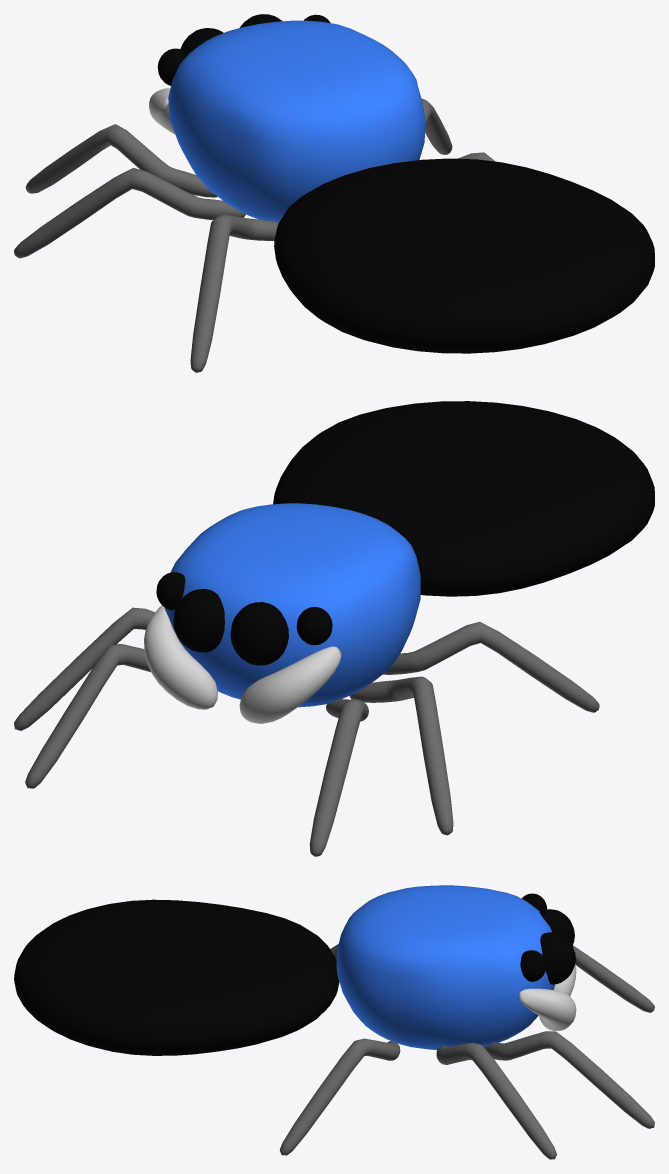
The model's file is Spider19.glb.
3 views of the same model, one above another, from view 1: azimuth 30°, elevation 25°; view 2: azimuth 150°, elevation 25°; view 3: azimuth 270°, elevation 25° (orthographic). The views are drawn at different scales.
Visible parts, largest first — view 1: Butt, Head, Leg.003, Leg.005, Leg.001, Leg.002, Pincer.001, Eye.002, Eye; view 2: Butt, Head, Leg.005, Leg.003, Pincer.001, Pincer, Leg, Leg.001, Leg.002, Eye, Eye.001, Eye.002 (+1 smaller); view 3: Butt, Head, Leg, Leg.004, Leg.002, Pincer, Leg.001, Eye.001, Eye.003, Eye.
Boxes of the visible parts, bbox=[...] form: Butt: bbox=[274, 158, 654, 353]; Head: bbox=[168, 20, 424, 222]; Leg.003: bbox=[14, 168, 245, 258]; Leg.005: bbox=[190, 215, 278, 372]; Leg.001: bbox=[25, 124, 217, 197]; Leg.002: bbox=[422, 98, 452, 154]; Pincer.001: bbox=[149, 88, 175, 134]; Eye.002: bbox=[157, 48, 188, 85]; Eye: bbox=[180, 28, 223, 53]; Butt: bbox=[273, 401, 654, 596]; Head: bbox=[164, 503, 420, 707]; Leg.005: bbox=[383, 622, 599, 712]; Leg.003: bbox=[349, 676, 453, 835]; Pincer.001: bbox=[239, 646, 341, 723]; Pincer: bbox=[144, 605, 217, 709]; Leg: bbox=[25, 644, 150, 788]; Leg.001: bbox=[309, 699, 368, 856]; Leg.002: bbox=[14, 607, 154, 730]; Eye: bbox=[230, 602, 288, 665]; Eye.001: bbox=[173, 589, 224, 652]; Eye.002: bbox=[296, 607, 332, 645]; Butt: bbox=[14, 899, 339, 1055]; Head: bbox=[336, 885, 555, 1049]; Leg: bbox=[484, 1031, 654, 1128]; Leg.004: bbox=[279, 1038, 400, 1155]; Leg.002: bbox=[436, 1042, 556, 1159]; Pincer: bbox=[518, 988, 576, 1030]; Leg.001: bbox=[572, 945, 654, 1012]; Eye.001: bbox=[540, 932, 575, 984]; Eye.003: bbox=[520, 950, 546, 981]; Eye: bbox=[539, 909, 574, 945].
Size of the model in its own units: 0.3311 by 0.1445 by 0.5081.
Materials: 5 (1 with a texture image).
